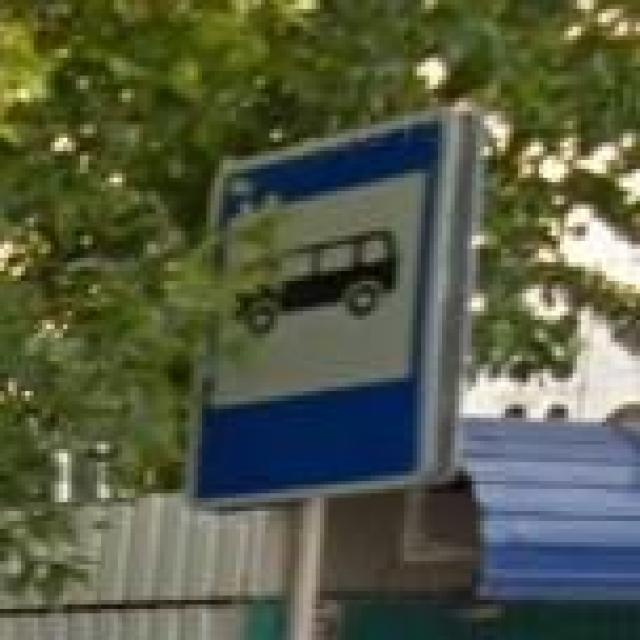traffic_sign: (181, 107, 463, 511)
